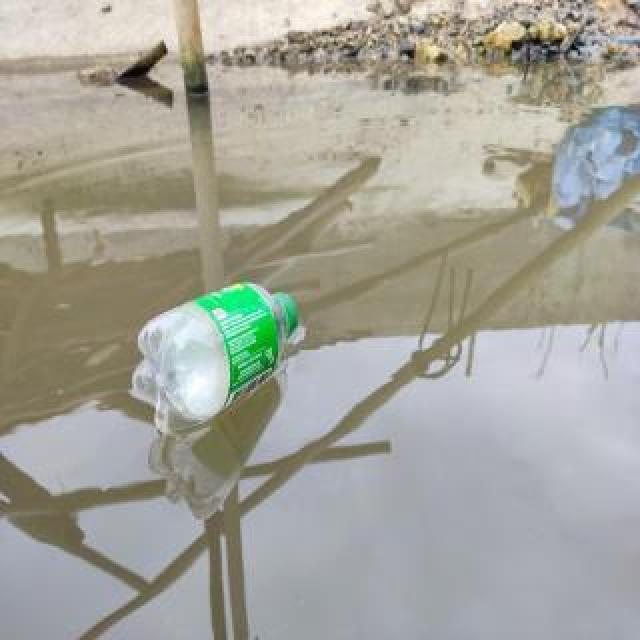bottle: (129, 277, 299, 439)
